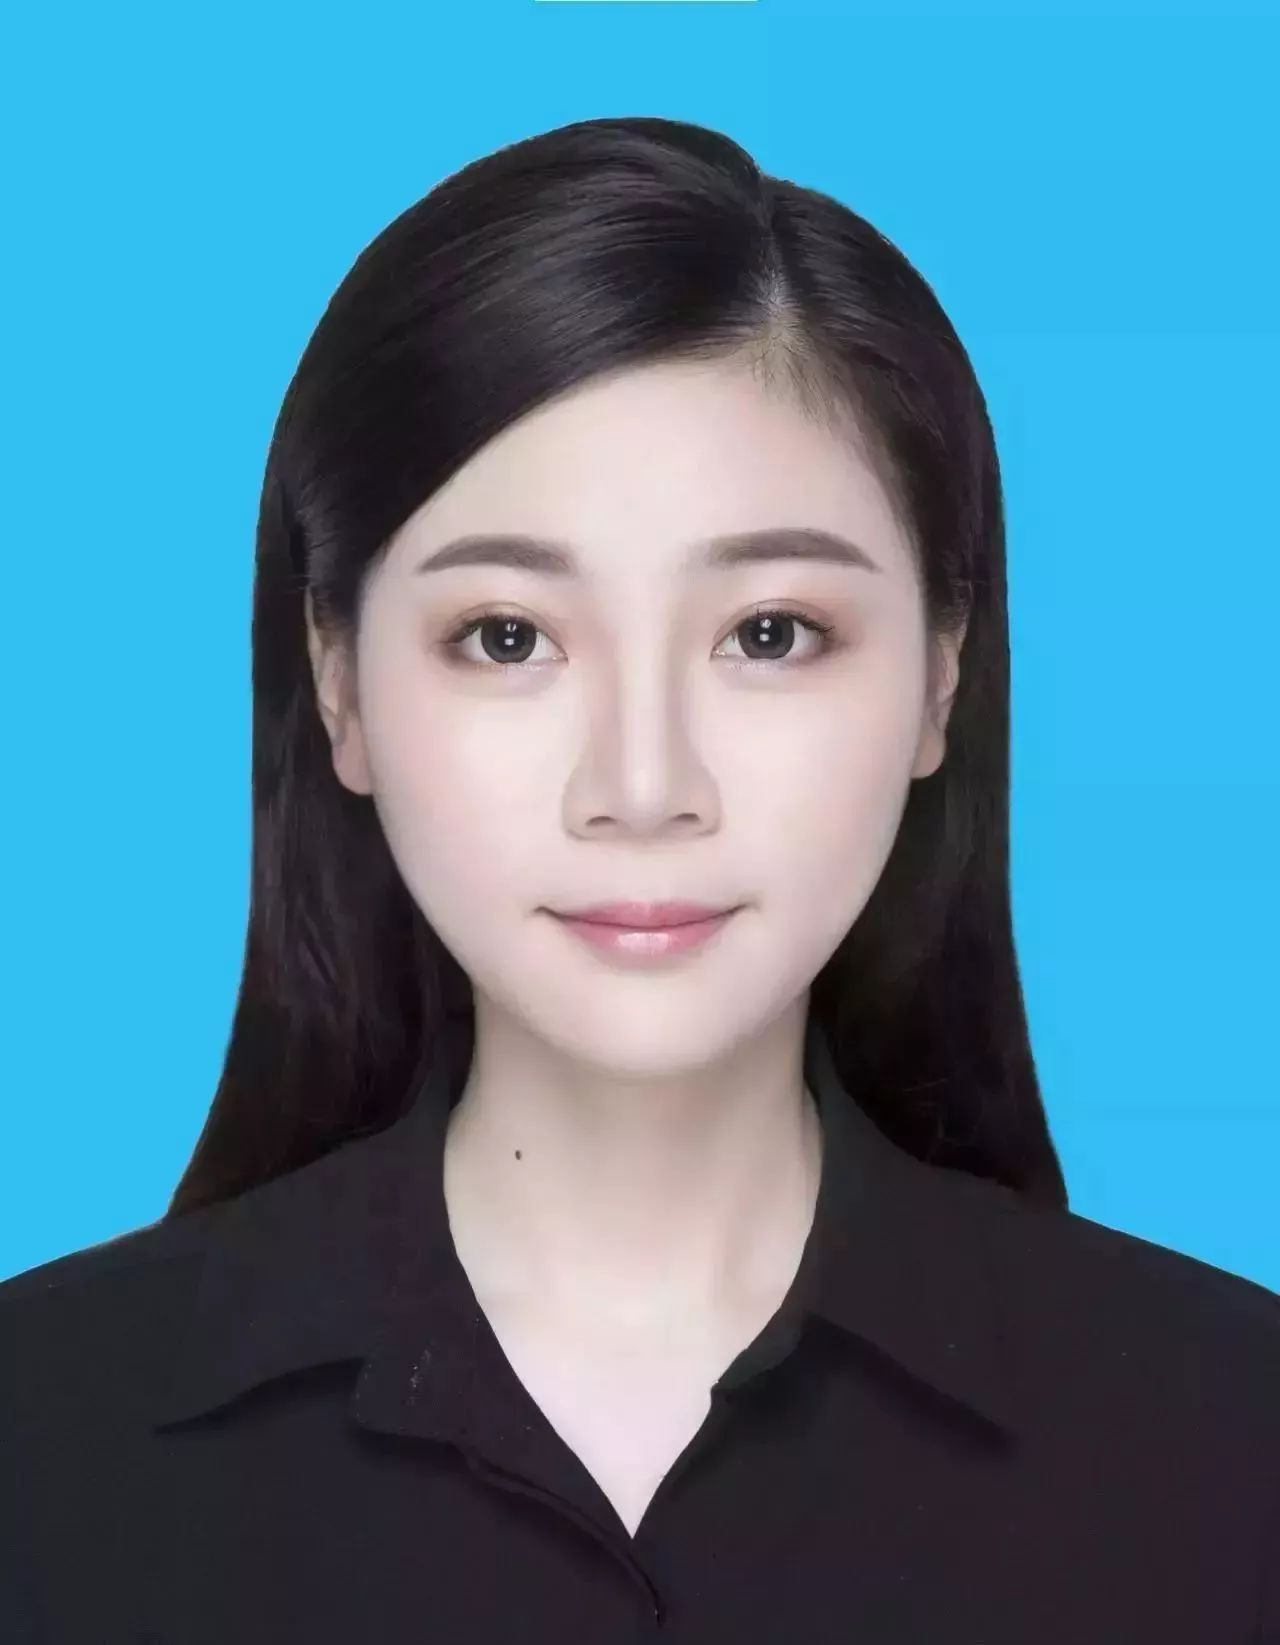unmask: (367, 480, 918, 1060)
